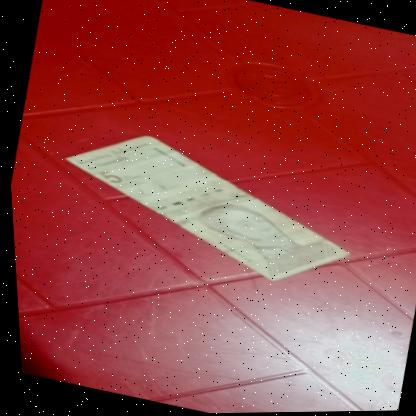five-front-vef: (42, 114, 367, 302)
